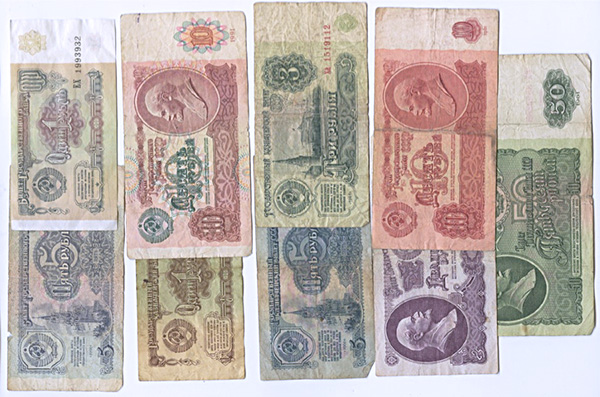cash: (123, 12, 251, 260), (373, 9, 498, 250), (496, 54, 595, 335), (253, 2, 367, 227), (10, 19, 116, 230), (6, 230, 124, 390), (256, 223, 374, 380), (374, 250, 498, 377), (136, 257, 245, 381)
